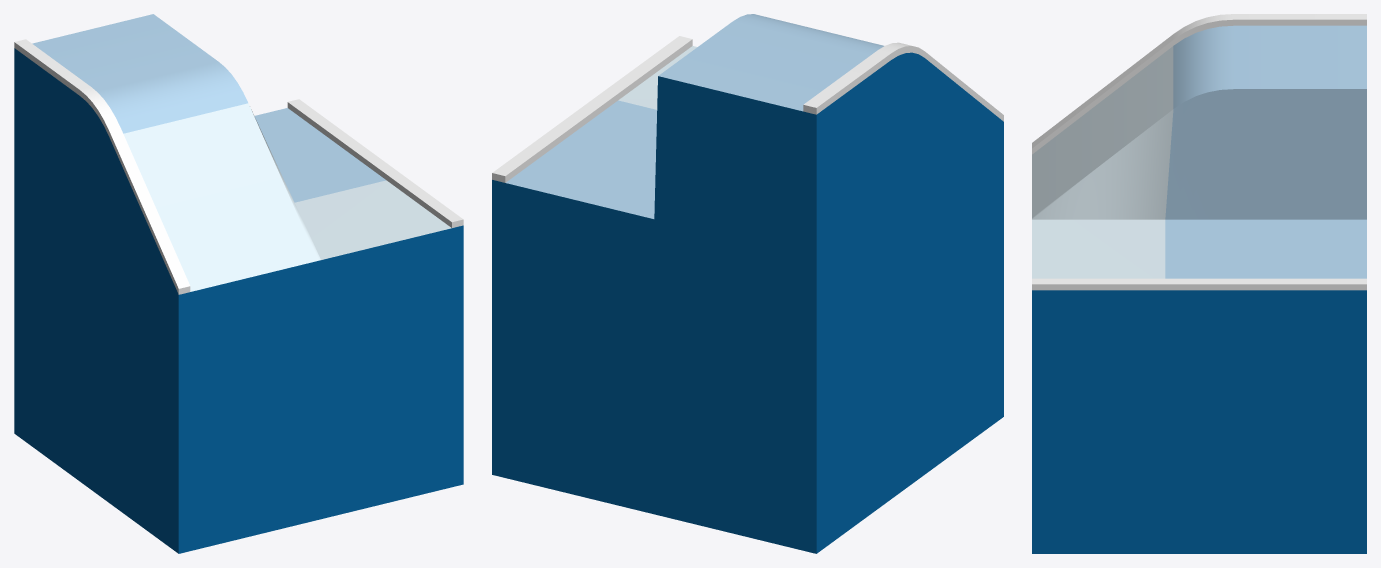
Rendered from W_Road_5.FBX.
3 renders of one model, left to right at view 1: azimuth 30°, elevation 25°; view 2: azimuth 150°, elevation 25°; view 3: azimuth 270°, elevation 25°, orthographic. The views are drawn at different scales.
Parts seen in each view (by area): view 1: Road_014; view 2: Road_014; view 3: Road_014.
Part boxes in pixels (x1,y1,x2,y2): Road_014: (14, 14, 463, 553); Road_014: (492, 14, 1003, 553); Road_014: (1032, 14, 1366, 553).
Bounding box in the file's own units: 503 × 661 × 503.
